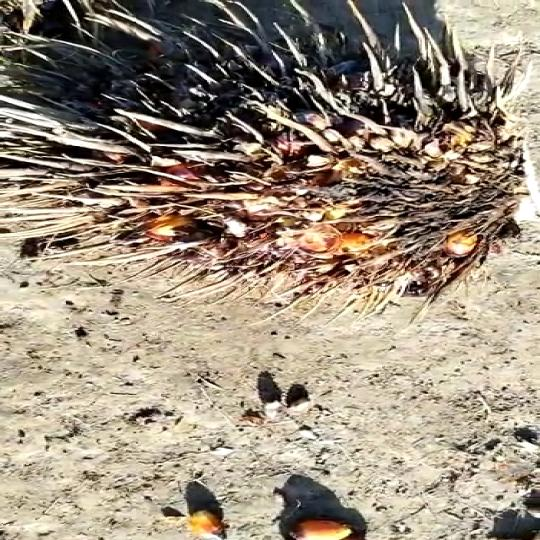terlalu masak: (1, 0, 540, 316)
